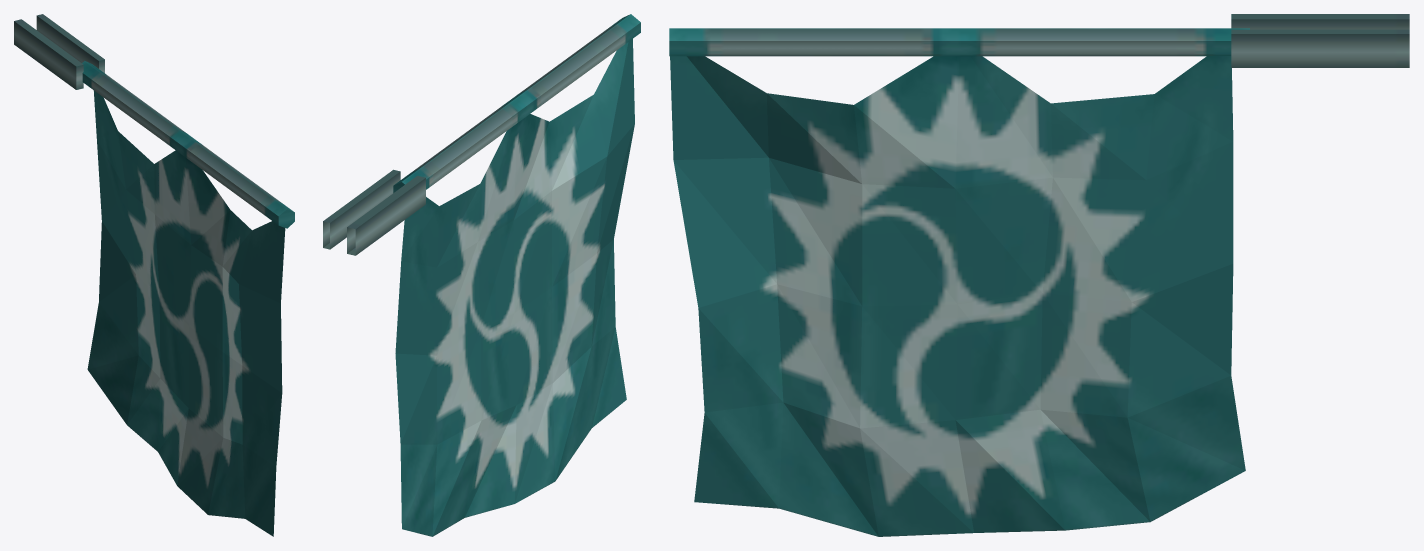
Rendered from SFlag_H.obj.
The picture shows the model from 3 angles, left to right: view 1: azimuth 30°, elevation 25°; view 2: azimuth 150°, elevation 25°; view 3: azimuth 270°, elevation 25°; orthographic projection. The views are drawn at different scales.
Visible parts, largest first — view 1: Node 0; view 2: Node 0; view 3: Node 0.
Part boxes in pixels (x1,y1,x2,y2): Node 0: (14,14,294,536); Node 0: (323,14,640,536); Node 0: (669,14,1409,536).
Size of the model in its own units: 0.23 by 2.75 by 3.57.
